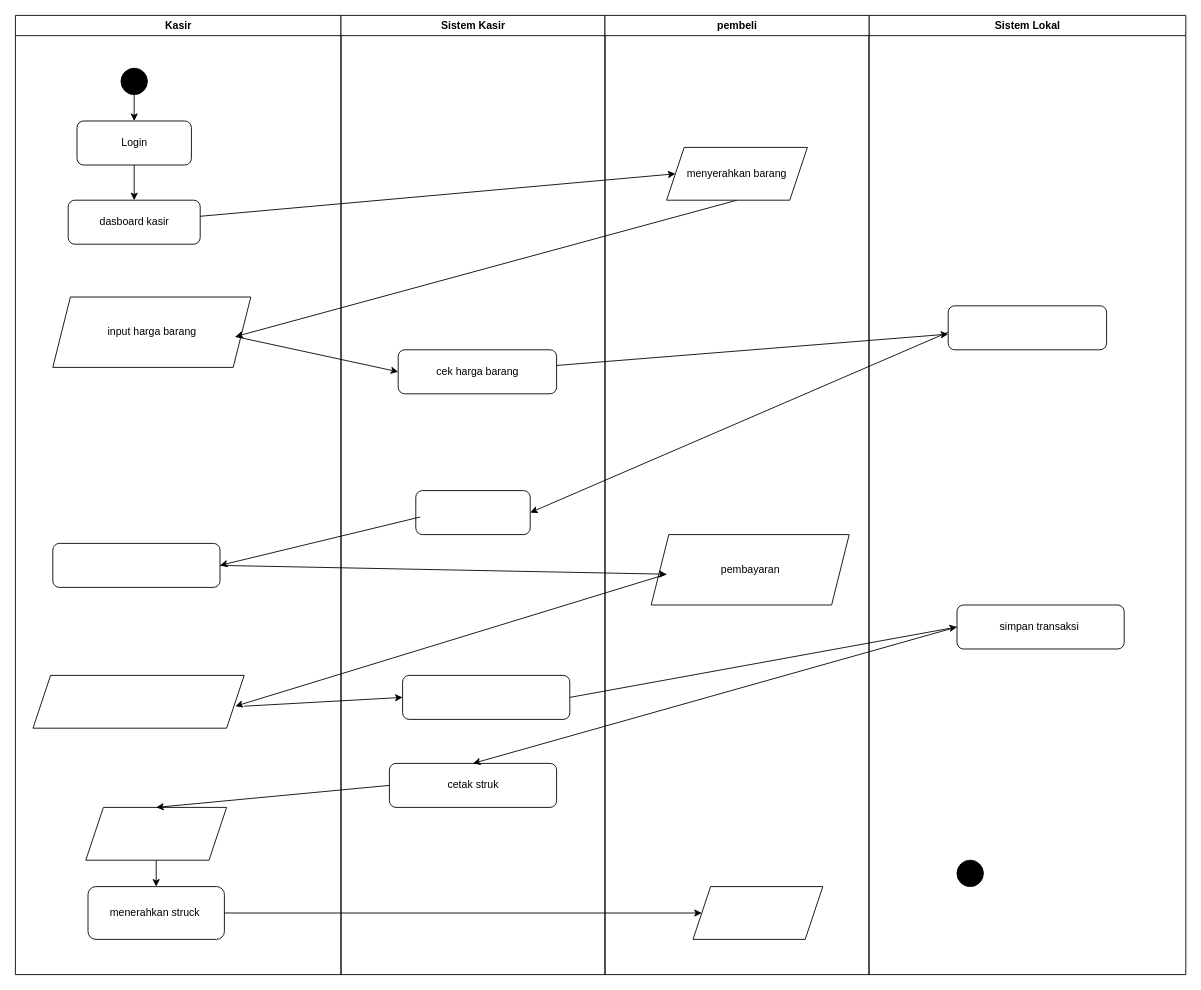
This 1201x990 diagram has some shape labels left out. The shapes that lost their labels are listed below. From the top down, each one's centre as x and y in pixels, then its label:
(1027,327): harga barang
(472,512): total harga barang
(136,565): tampilan total harga barang
(138,701): input dan simpan transaksi pembayaran
(486,697): proses simpan transaksi
(156,833): ambil struck
(757,912): terima struck
